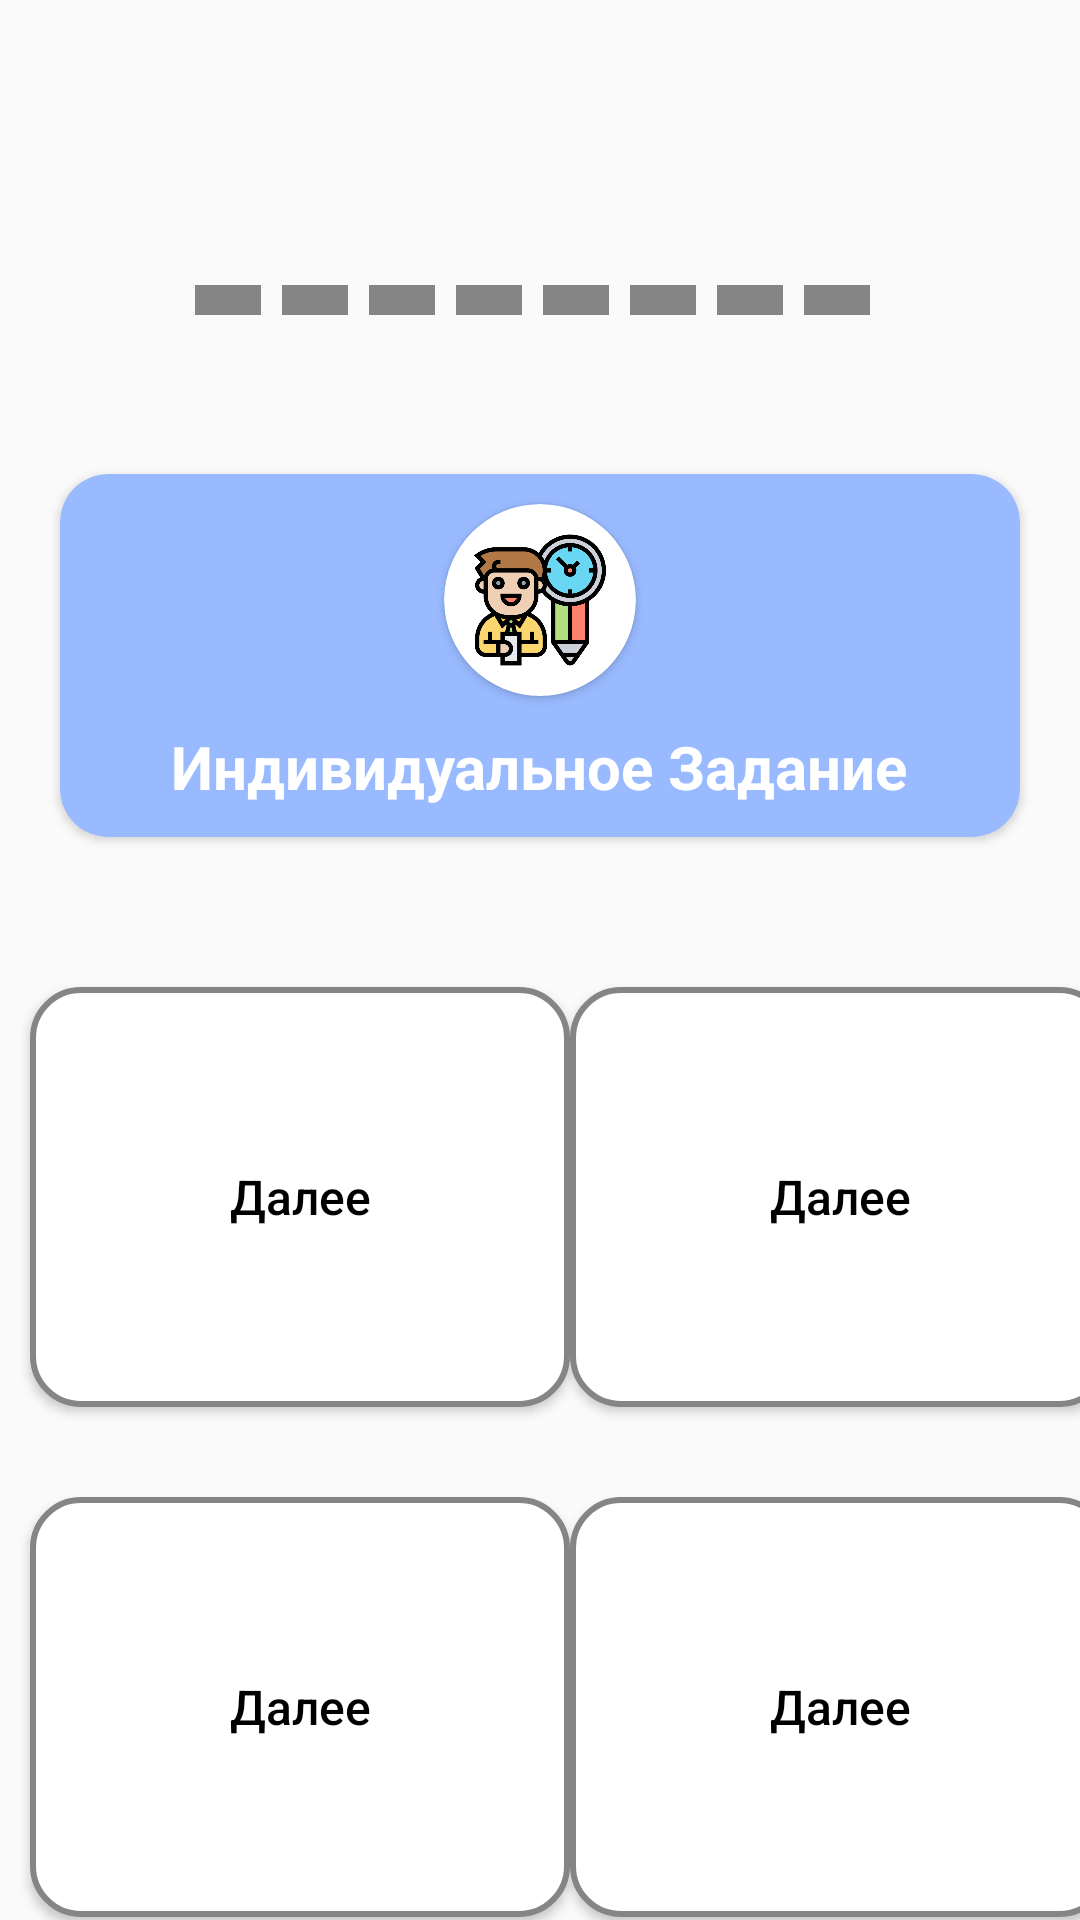

Named icons in this screenshot (1080×1920) and their centers, [x,y]:
tasks: [540,600]
